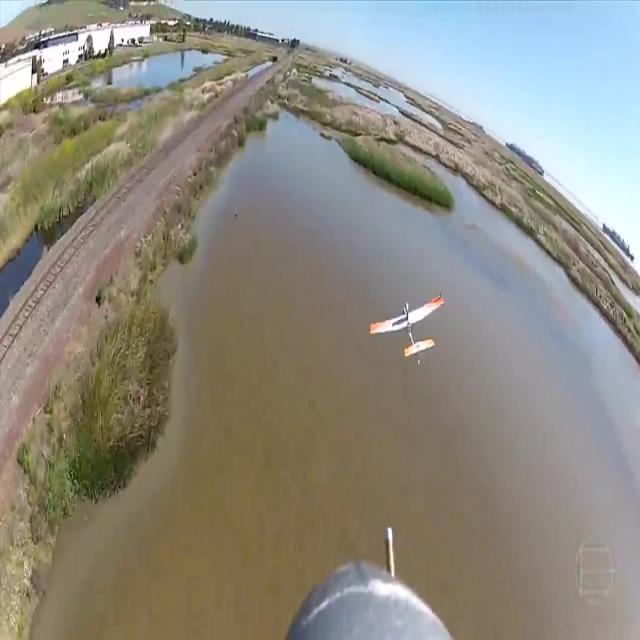iha: (401, 322, 414, 324)
